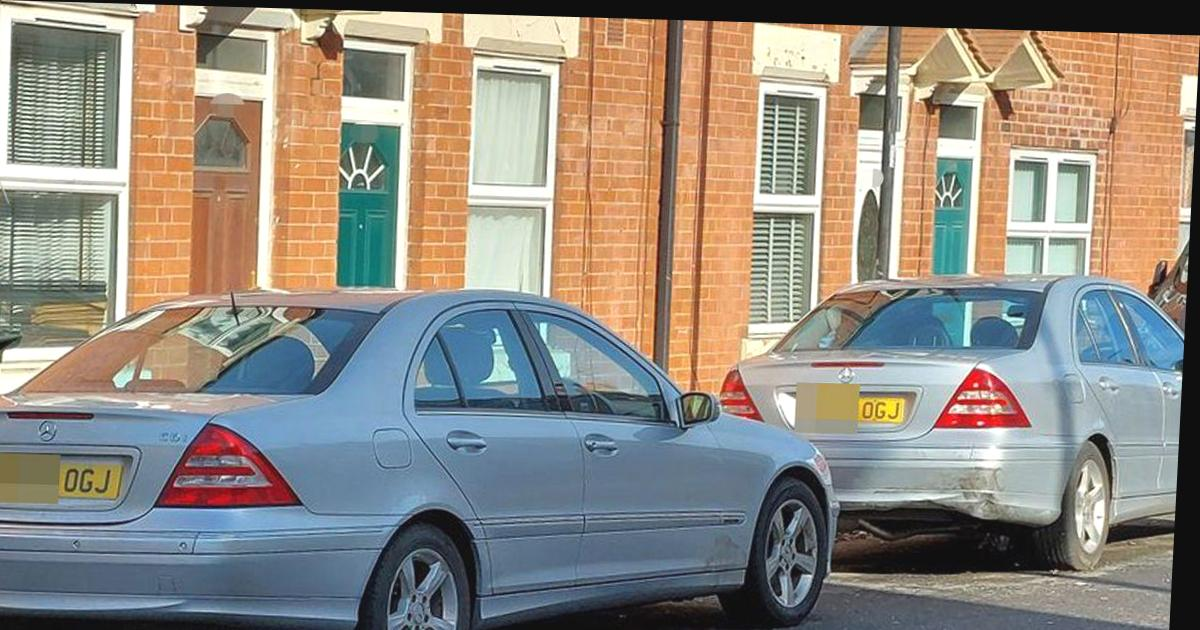License_Plate: (0, 449, 131, 515), (789, 383, 915, 436)
